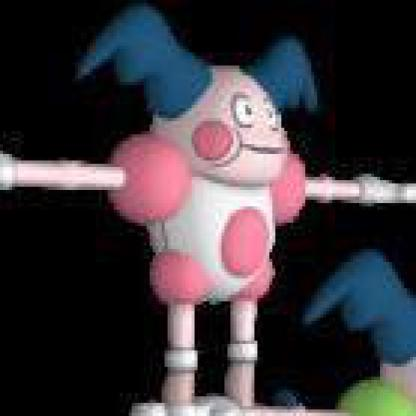Mr. Mime: (1, 1, 414, 414)
